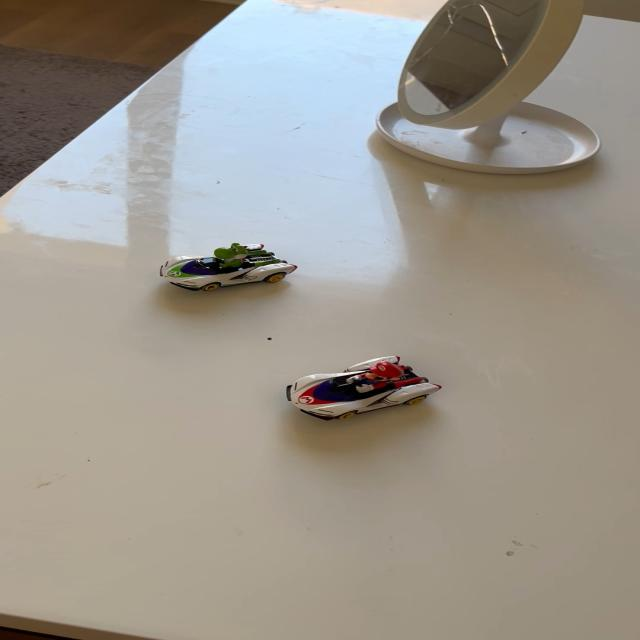mario: (276, 350, 454, 422)
yoshi: (156, 235, 307, 297)
